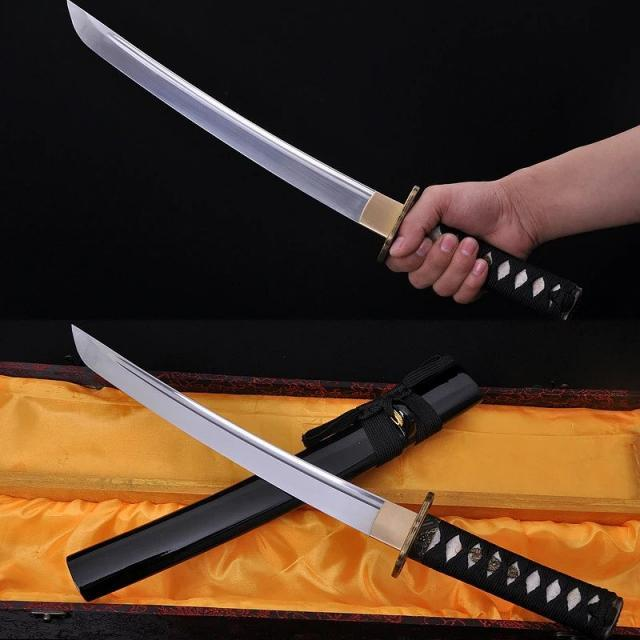short sword: (55, 316, 640, 640), (53, 0, 640, 308)
